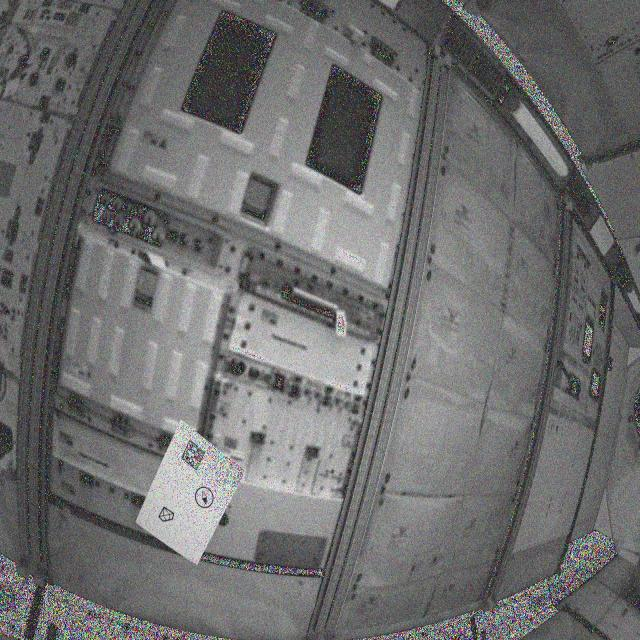compass: (194, 485, 217, 513)
diamond: (157, 505, 177, 526)
